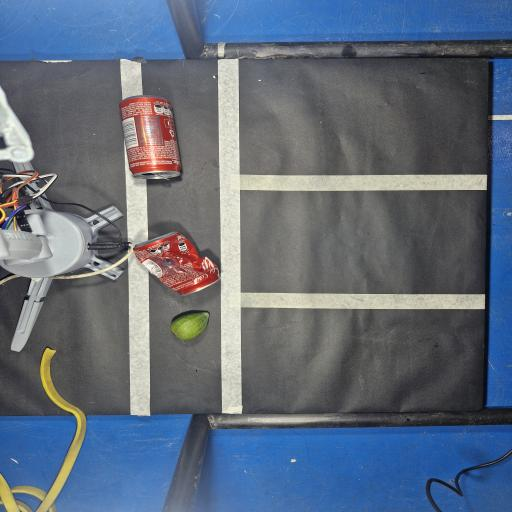higo: (170, 311, 209, 340)
lata: (120, 96, 181, 179)
lata_defectuoso: (135, 233, 219, 294)
